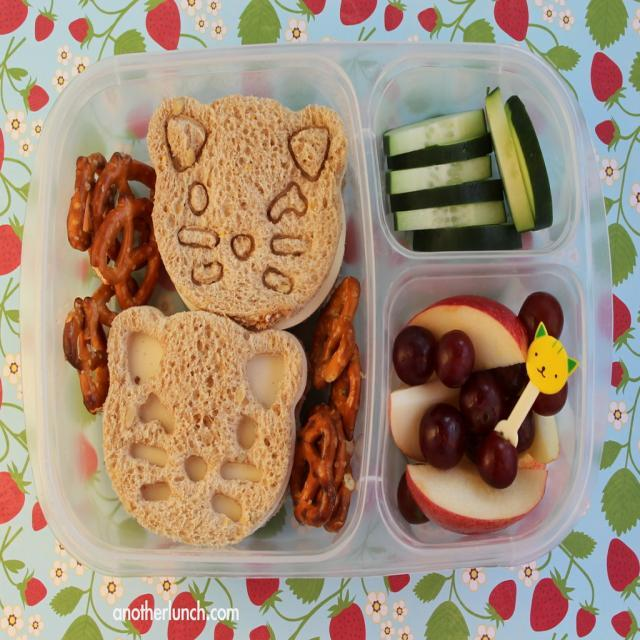Zucchini: (483, 81, 538, 239), (505, 92, 555, 234), (382, 105, 490, 157), (383, 154, 496, 198), (393, 196, 513, 237)
